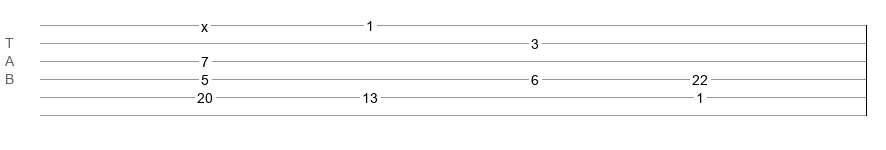1: (366, 18, 374, 28), (696, 90, 704, 100)
13: (362, 90, 378, 100)
20: (197, 90, 213, 100)
22: (692, 72, 708, 82)
3: (531, 36, 539, 46)
5: (201, 72, 209, 82)
6: (531, 72, 539, 82)
7: (201, 54, 209, 64)
x: (201, 19, 208, 27)
